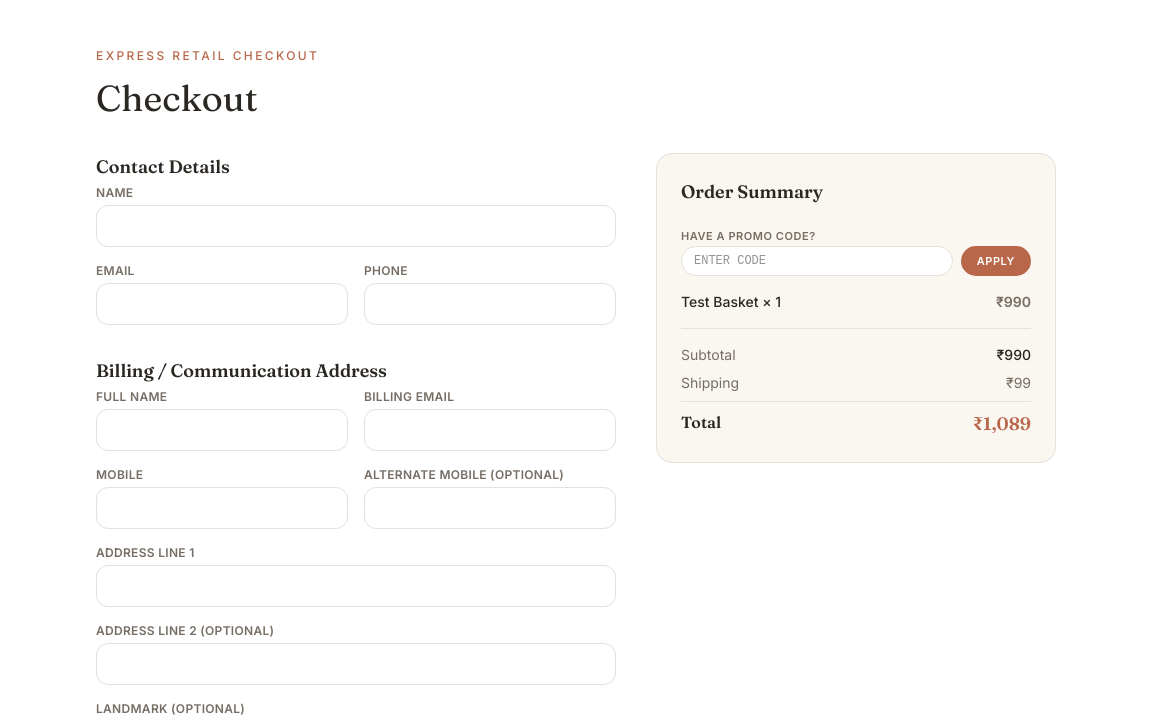
Test: CheckoutPage › shows validation errors for an invalid phone and PIN instead of submitting
Expected: the text "₹1,089" is shown, 973,410 -> 1031,438
Type "Test" into the field labelled "Name" at (356, 226), box 96,205 -> 616,247
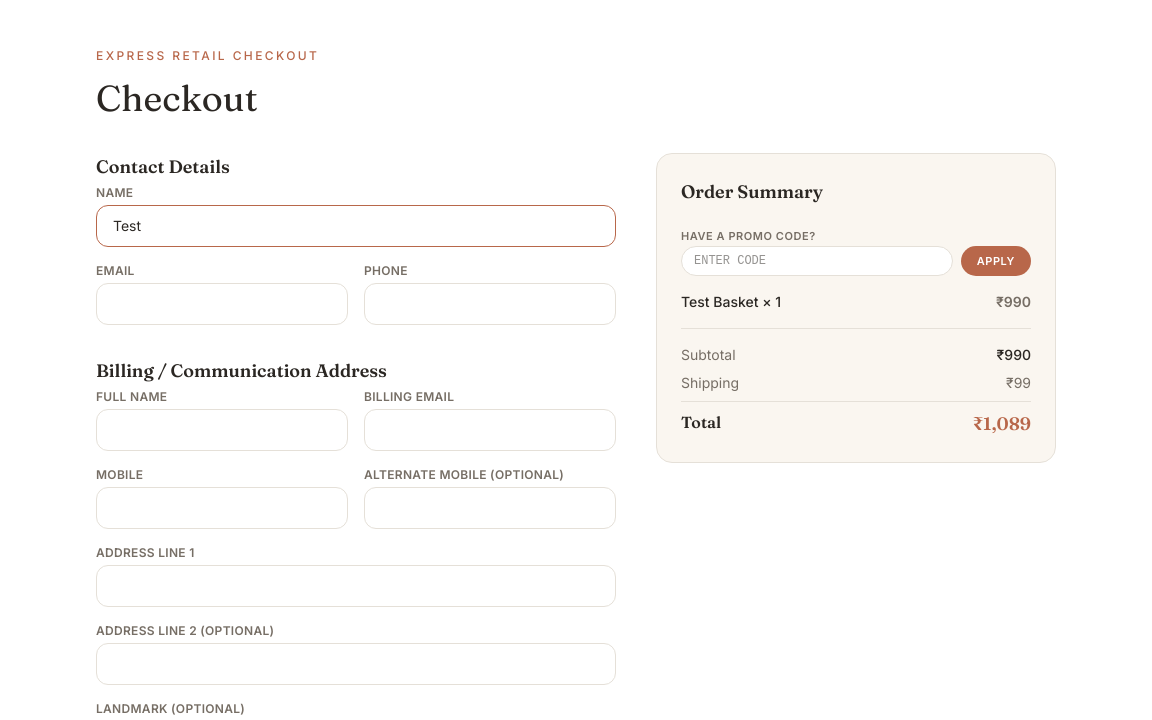
Type "test@example.com" into the field labelled "Email" at (222, 304), box 96,283 -> 348,325
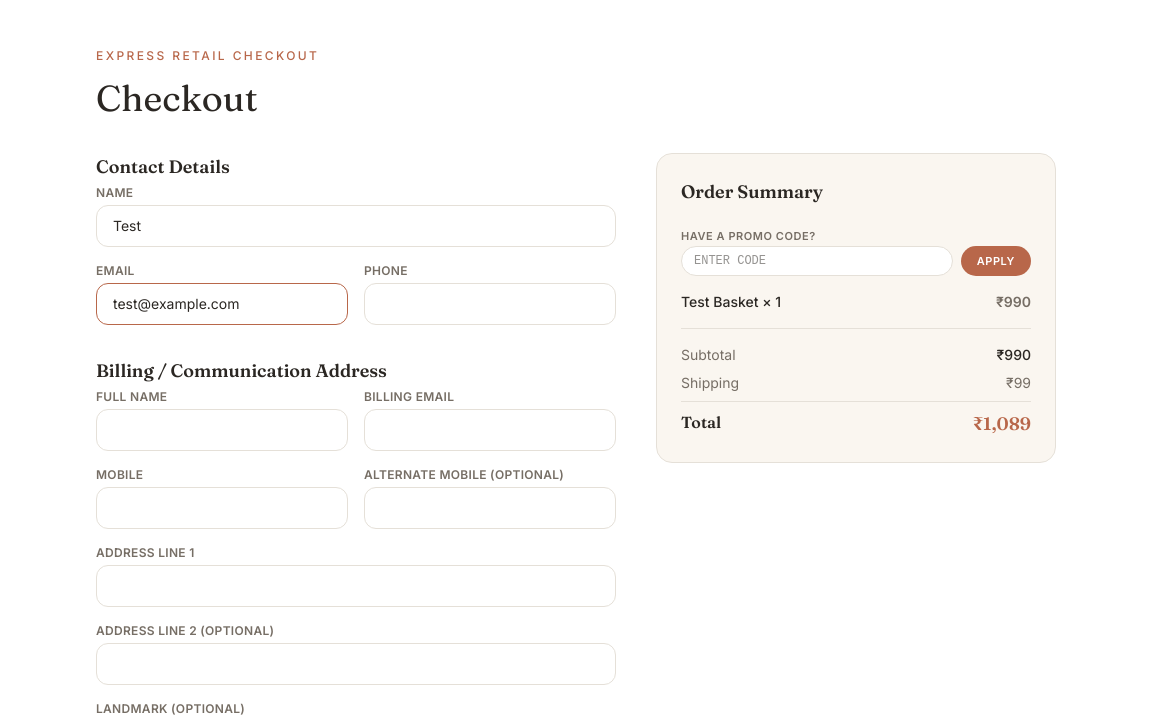
Type "12345" into the field with test id "contact-phone" at (490, 304), box 364,283 -> 616,325
(page scrolled)
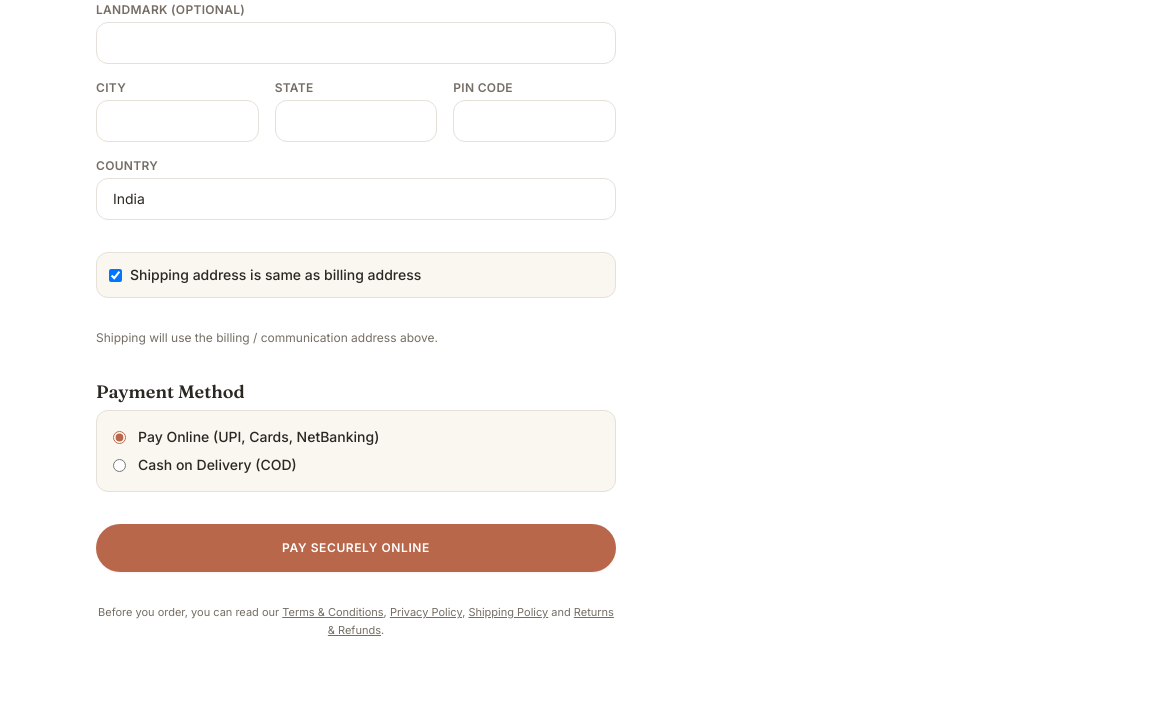
Click the button "Pay Securely Online" at (356, 548), box 96,524 -> 616,572
(page scrolled)
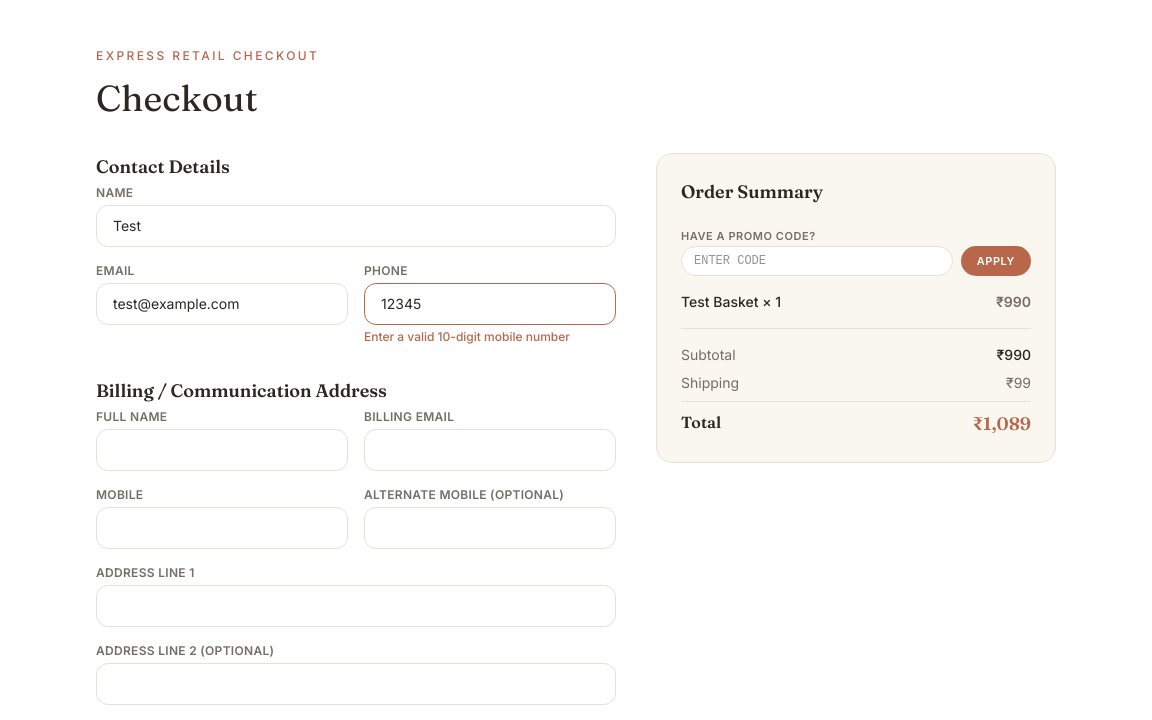
Expected: the text "Enter a valid 10-digit mobile number" is shown, 364,329 -> 570,344
